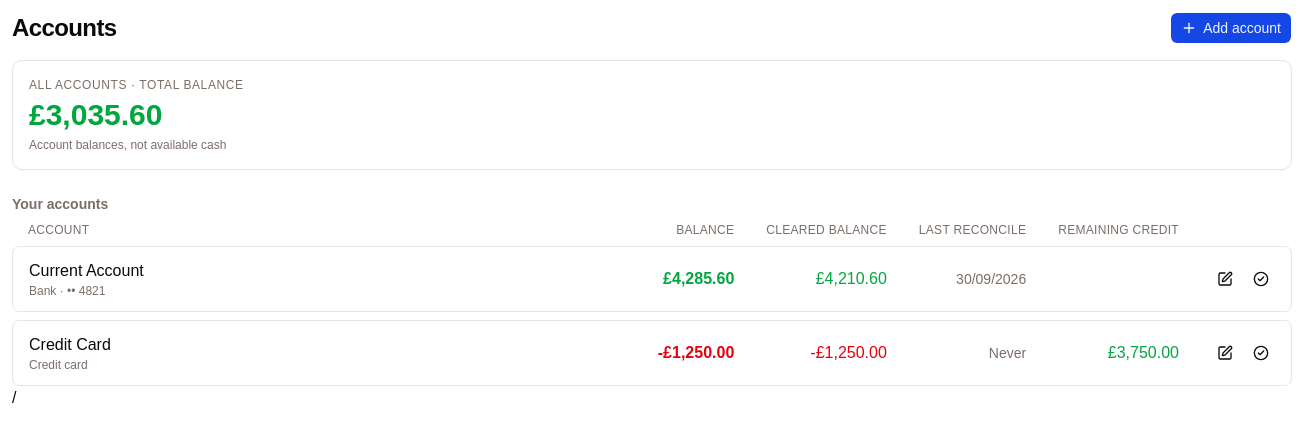
Scenario: AccountsList › navigates from the card link
Click the link "Current Account". click: (86, 270)
box: [29,262,144,279]
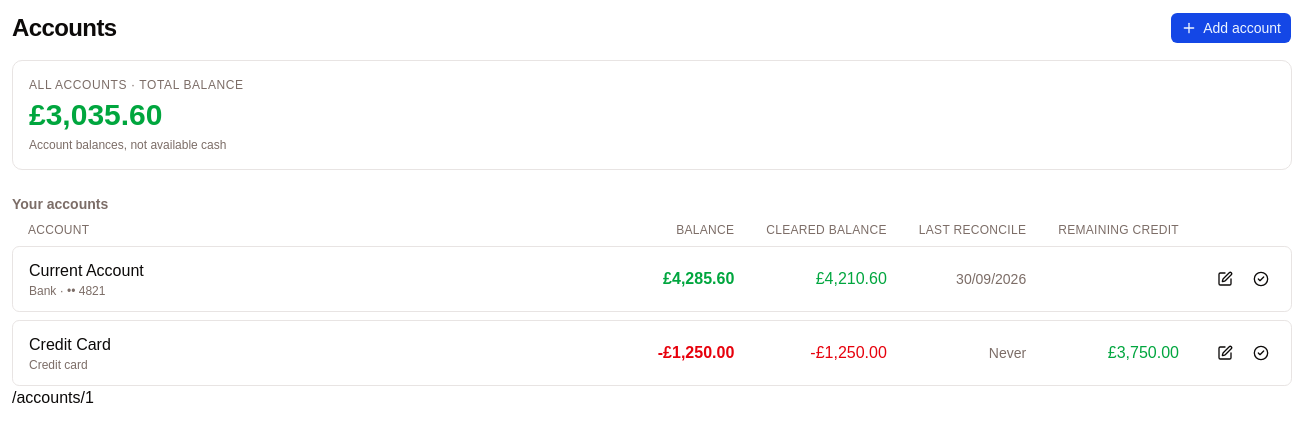
Expected: the text with test id "location" reads "/accounts/1", [12,389,94,406]
